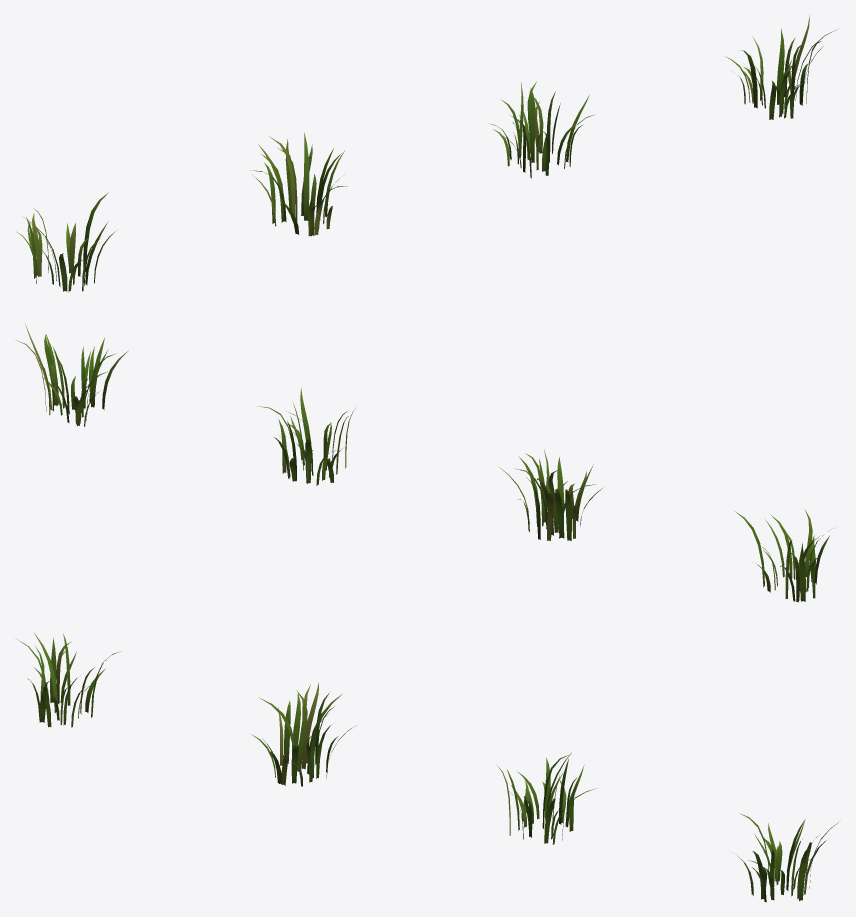
Rendered from grass_short_lod0.glb.
3 views of the same model, one above another, from view 1: azimuth 30°, elevation 25°; view 2: azimuth 150°, elevation 25°; view 3: azimuth 330°, elevation 25° (orthographic).
Visible parts, largest first — view 1: Grass_short_02_LOD0, Grass_short_03_LOD0, Grass_short_04_LOD0, Grass_short_01_LOD0; view 2: Grass_short_02_LOD0, Grass_short_04_LOD0, Grass_short_01_LOD0, Grass_short_03_LOD0; view 3: Grass_short_02_LOD0, Grass_short_03_LOD0, Grass_short_01_LOD0, Grass_short_04_LOD0.
Part boxes in pixels (box(x1,y1,x2,y2)): Grass_short_02_LOD0: box(250, 132, 347, 236); Grass_short_03_LOD0: box(491, 81, 594, 178); Grass_short_04_LOD0: box(725, 15, 837, 119); Grass_short_01_LOD0: box(16, 192, 115, 292); Grass_short_02_LOD0: box(499, 449, 603, 540); Grass_short_04_LOD0: box(17, 324, 128, 426); Grass_short_01_LOD0: box(735, 509, 837, 602); Grass_short_03_LOD0: box(256, 387, 355, 485); Grass_short_02_LOD0: box(251, 682, 356, 786); Grass_short_03_LOD0: box(496, 752, 596, 844); Grass_short_01_LOD0: box(17, 633, 120, 727); Grass_short_04_LOD0: box(732, 813, 838, 902).
Size of the model in its own units: 2.91 by 0.2481 by 0.3447.
Materials: 1 (1 with a texture image).
